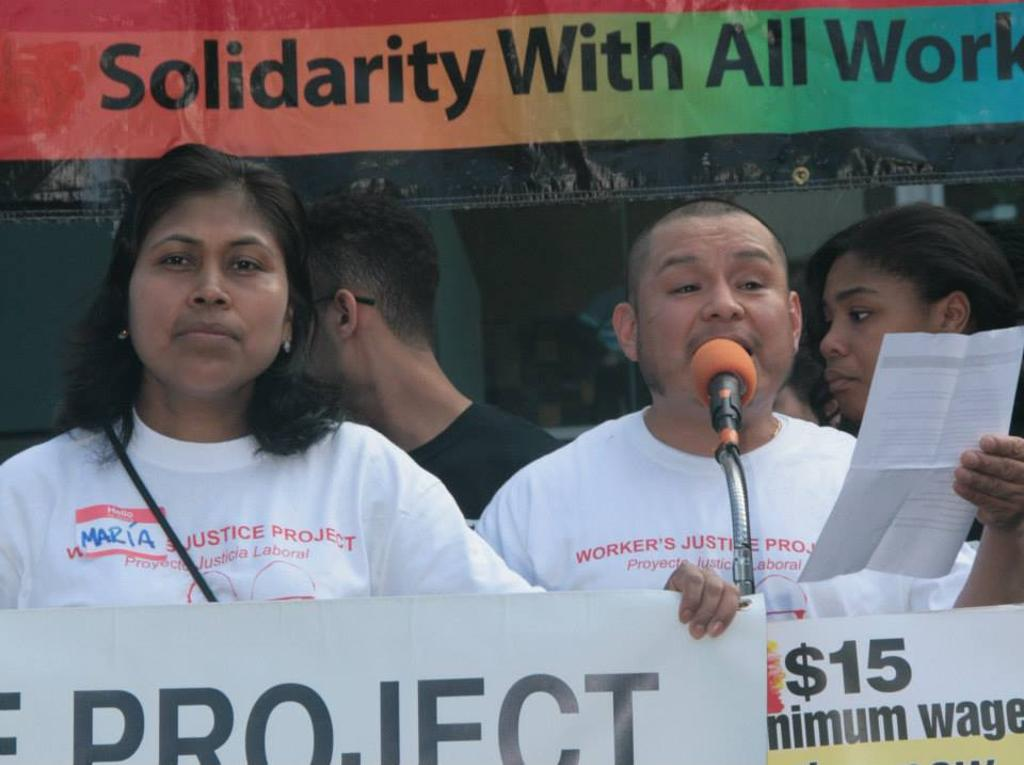face: (132, 192, 276, 384), (640, 216, 788, 394), (820, 252, 952, 410)
